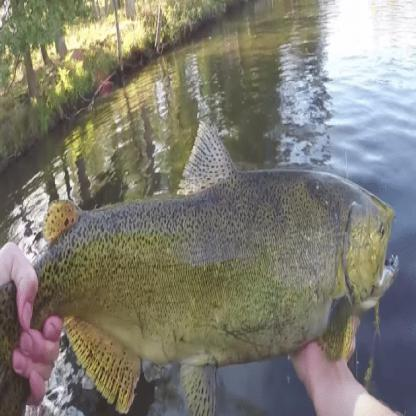fish: (0, 118, 399, 415)
